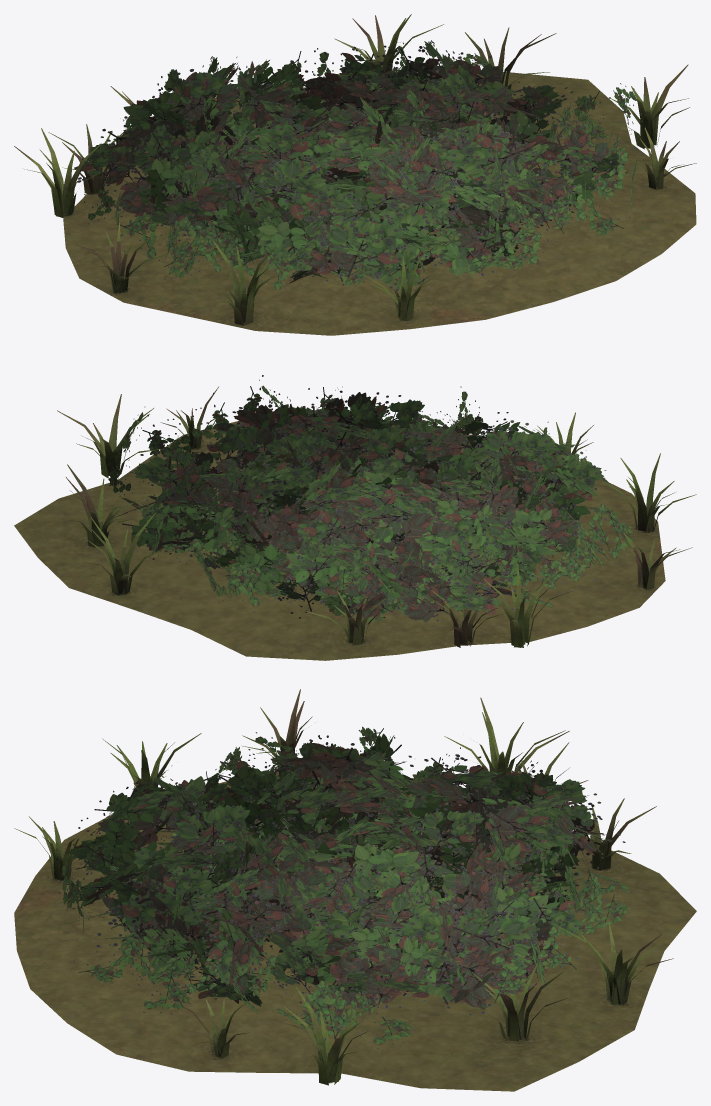
File: berry_bush.glb
The picture shows the model from 3 angles, top to bottom: view 1: azimuth 30°, elevation 25°; view 2: azimuth 150°, elevation 25°; view 3: azimuth 270°, elevation 25°; orthographic projection. The views are drawn at different scales.
Parts seen in each view (by area): view 1: berry_bush_cards_LOD0, berry_bush_LOD0, berry_bush_bilberry_LOD0; view 2: berry_bush_cards_LOD0, berry_bush_LOD0, berry_bush_bilberry_LOD0; view 3: berry_bush_cards_LOD0, berry_bush_LOD0, berry_bush_bilberry_LOD0.
Part boxes in pixels (<box>): berry_bush_cards_LOD0: <box>74,40,627,293</box>; berry_bush_LOD0: <box>14,14,696,335</box>; berry_bush_bilberry_LOD0: <box>84,42,642,295</box>; berry_bush_cards_LOD0: <box>113,390,606,628</box>; berry_bush_LOD0: <box>14,386,696,660</box>; berry_bush_bilberry_LOD0: <box>108,375,634,619</box>; berry_bush_cards_LOD0: <box>64,733,625,1015</box>; berry_bush_LOD0: <box>14,689,696,1091</box>; berry_bush_bilberry_LOD0: <box>59,726,636,1048</box>.
Size of what is drawn, in the model's own units: 4.35 by 0.7195 by 3.54.
Materials: 3 (3 with a texture image).
